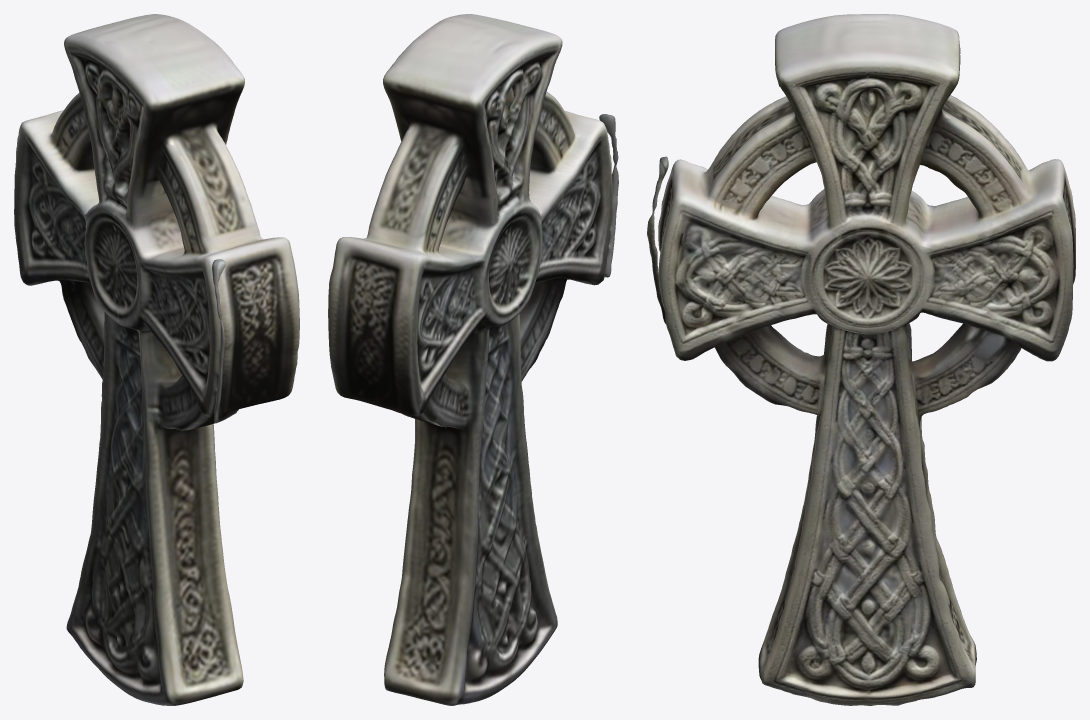
The picture shows the model from 3 angles, left to right: view 1: azimuth 30°, elevation 25°; view 2: azimuth 150°, elevation 25°; view 3: azimuth 270°, elevation 25°; orthographic projection. The views are drawn at different scales.
Parts seen in each view (by area): view 1: tripo_node_138033c7-ba15-4924-9105-610cbc9ad77b_0; view 2: tripo_node_138033c7-ba15-4924-9105-610cbc9ad77b_0; view 3: tripo_node_138033c7-ba15-4924-9105-610cbc9ad77b_0.
Part boxes in pixels (x1=…): tripo_node_138033c7-ba15-4924-9105-610cbc9ad77b_0: x1=14, y1=14, x2=299, y2=705; tripo_node_138033c7-ba15-4924-9105-610cbc9ad77b_0: x1=328, y1=14, x2=618, y2=705; tripo_node_138033c7-ba15-4924-9105-610cbc9ad77b_0: x1=647, y1=14, x2=1075, y2=705.
Bounding box in the file's own units: 0.1528 × 0.942 × 0.5543.
1 material, 1 textured.
